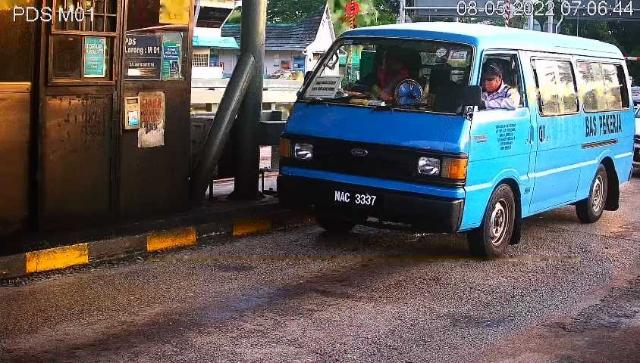License_Plate: (330, 189, 383, 213)
van: (278, 24, 637, 258)
